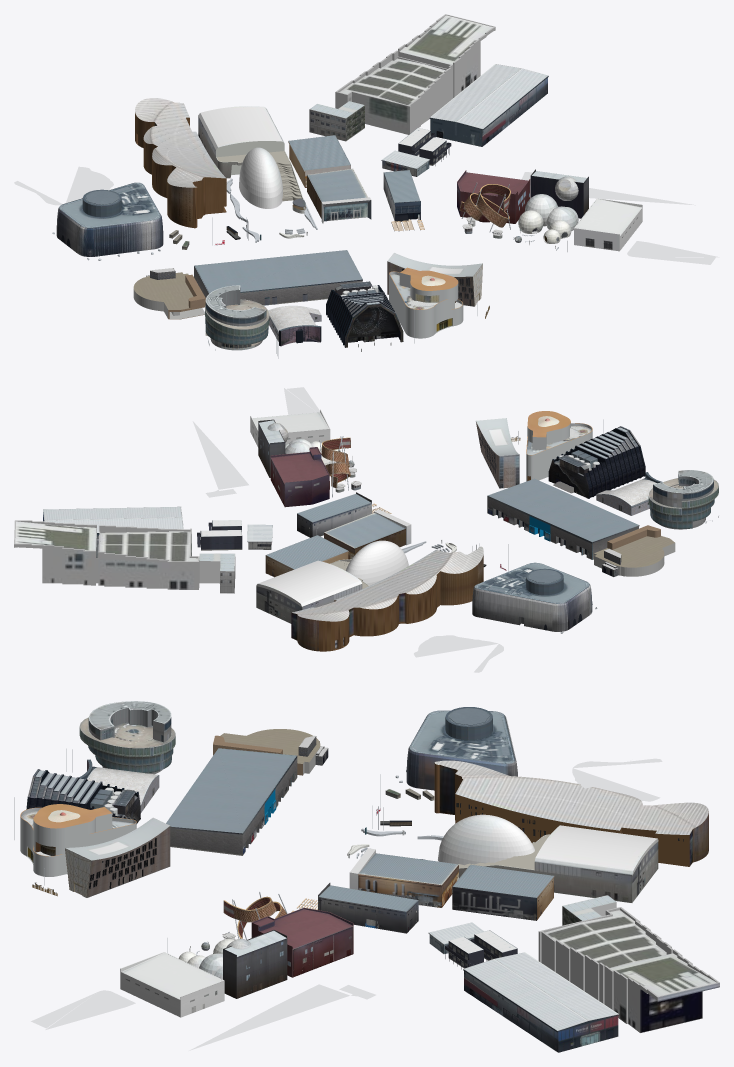
The picture shows the model from 3 angles, top to bottom: view 1: azimuth 30°, elevation 25°; view 2: azimuth 150°, elevation 25°; view 3: azimuth 270°, elevation 25°; orthographic projection. The views are drawn at different scales.
Visible parts, largest first — view 1: Buildings_建物パビリオン, Facilities_都市設備; view 2: Buildings_建物パビリオン, Facilities_都市設備; view 3: Buildings_建物パビリオン, Facilities_都市設備.
Part boxes in pixels (left/top/right/bottom): Buildings_建物パビリオン: left=14, top=14, right=719, bottom=350; Facilities_都市設備: left=52, top=178, right=567, bottom=358; Buildings_建物パビリオン: left=14, top=387, right=718, bottom=672; Facilities_都市設備: left=319, top=419, right=718, bottom=633; Buildings_建物パビリオン: left=20, top=701, right=719, bottom=1052; Facilities_都市設備: left=14, top=748, right=443, bottom=955.
Bounding box in the file's own units: 233 × 17.84 × 222.
Materials: 50 (48 with a texture image).
